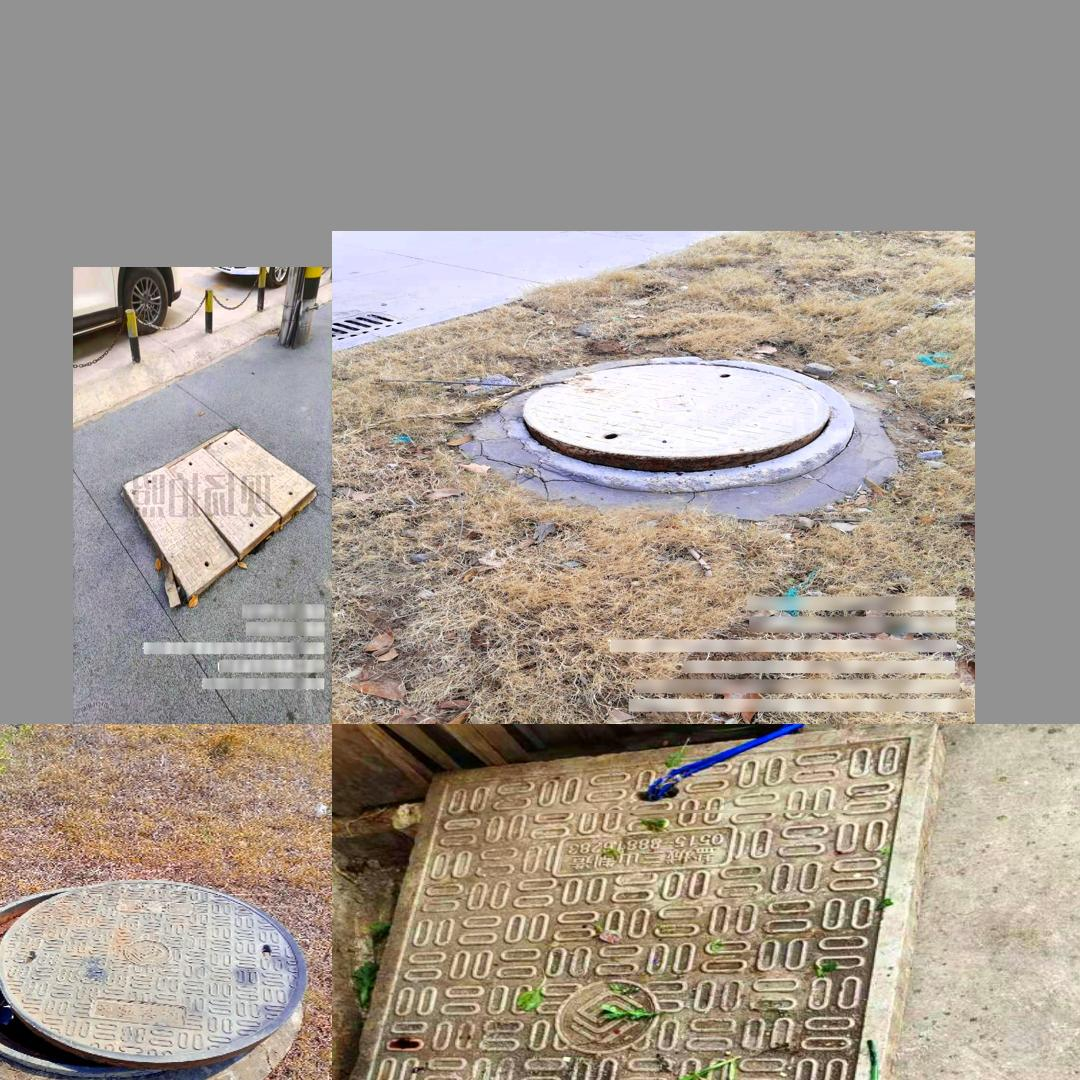uncovered: (339, 725, 948, 1080), (0, 878, 306, 1079), (504, 357, 854, 495), (122, 425, 316, 598)
